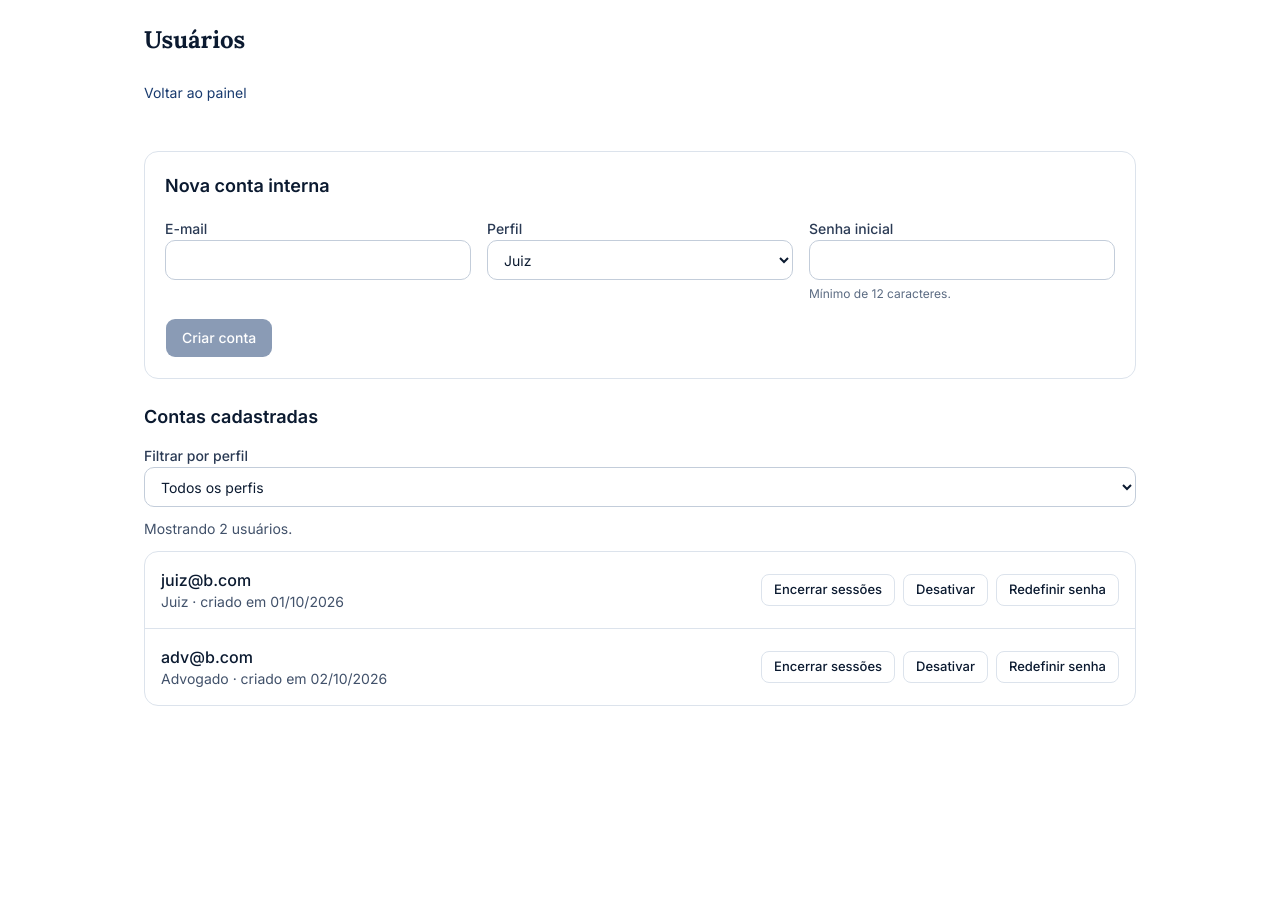
Test: UsersAdmin › creates an account, clears the password, announces and refetches
Expected: the text "juiz@b.com" is shown, [161,570,251,590]
Type "novo@b.com" into the field labelled "E-mail". click: (318, 260)
box: [165,240,471,280]
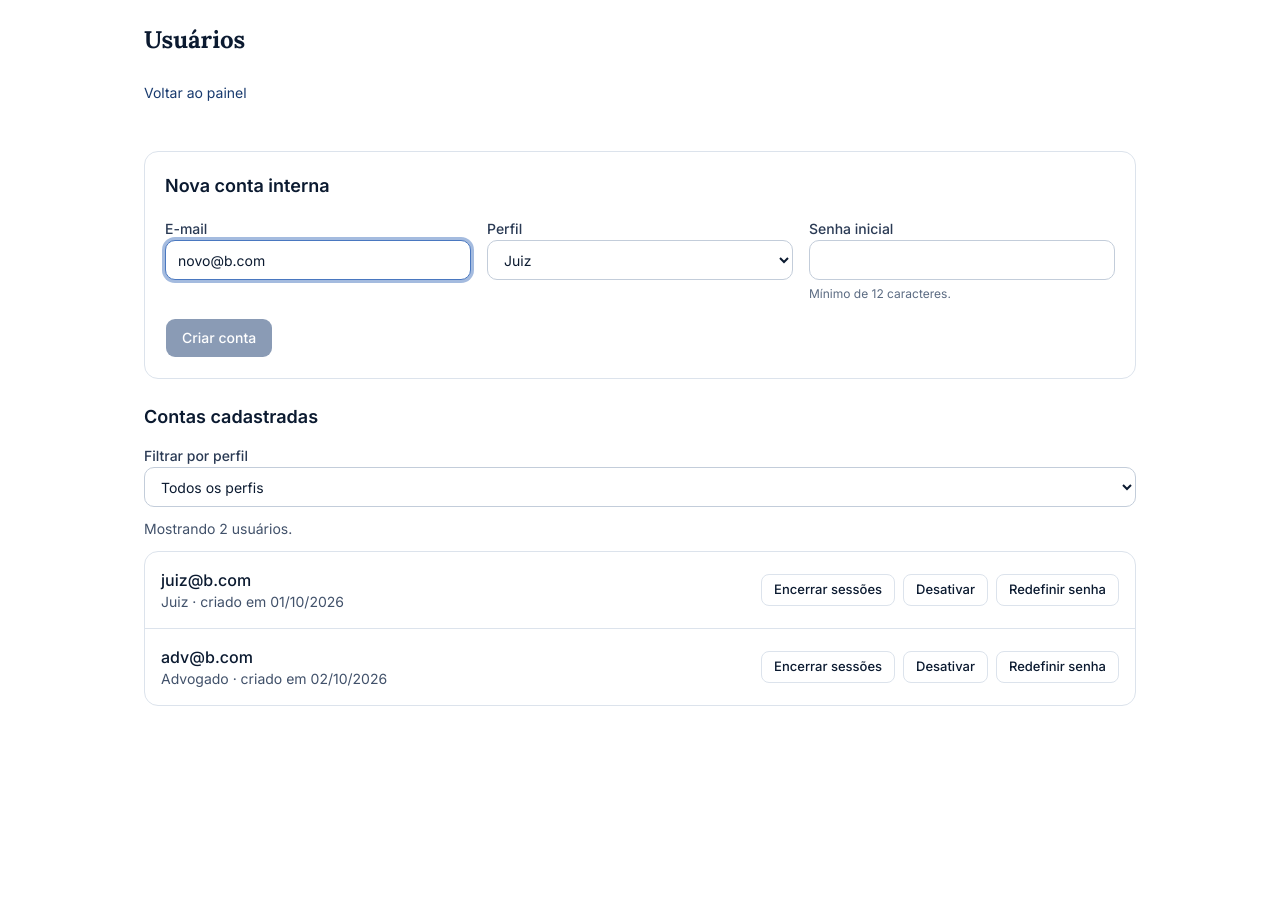
Select "Administrador" in the dropdown labelled "Perfil". click: (640, 260)
box: [487,240,793,280]
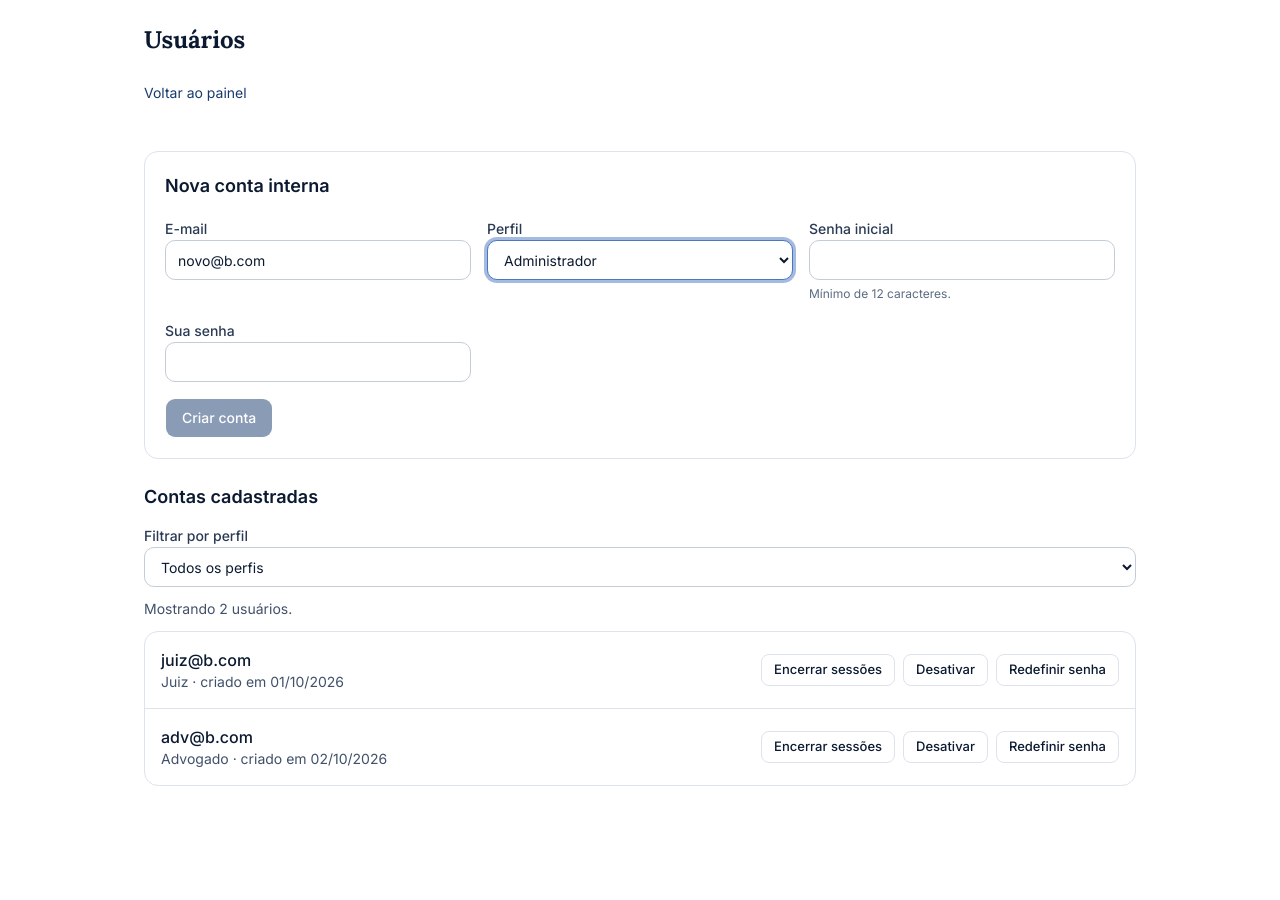
Type "senha-forte-123" into the password field labelled "Senha inicial". click: (962, 260)
box: [809,240,1115,280]
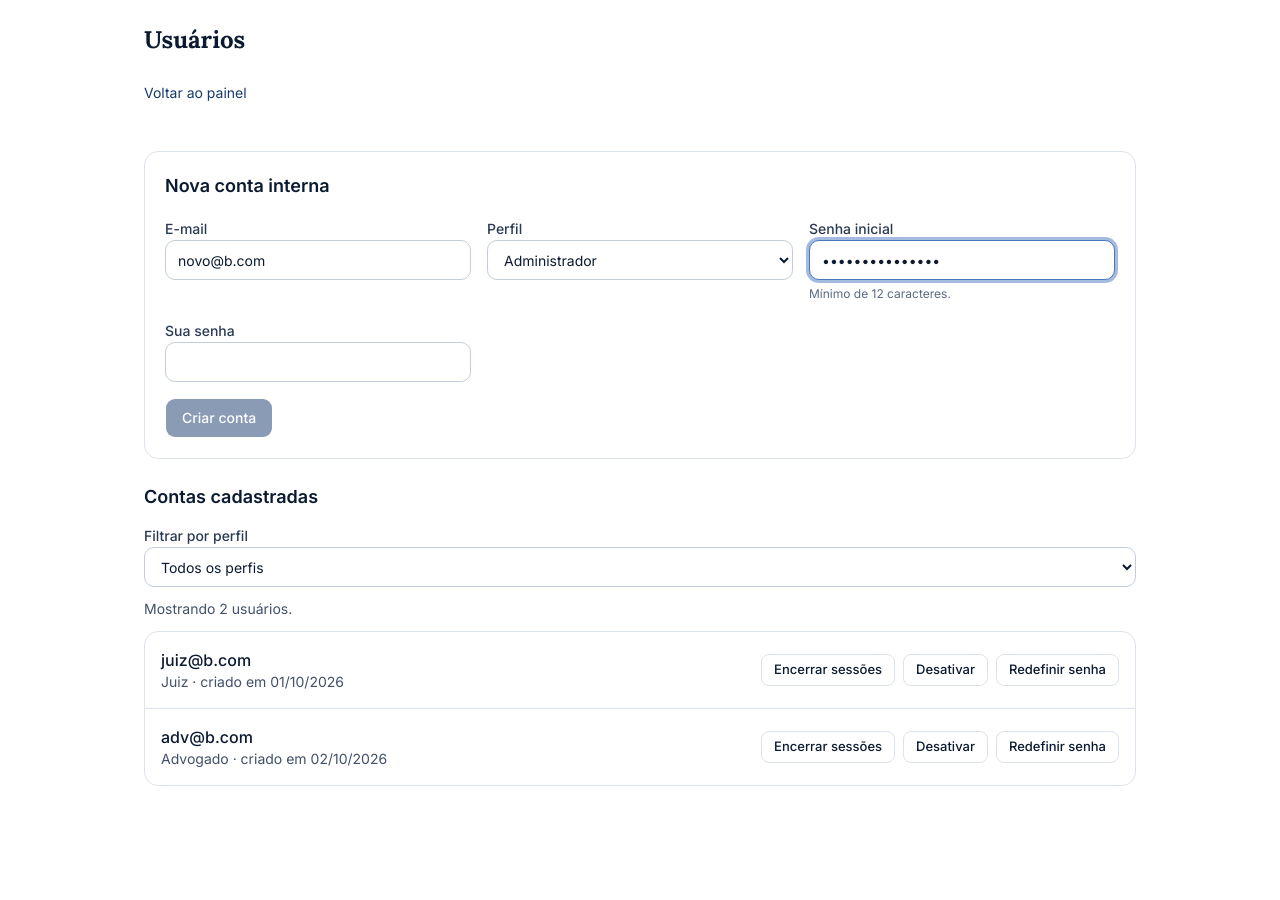
Type "minha-senha" into the password field labelled "Sua senha". click: (318, 362)
box: [165,342,471,382]
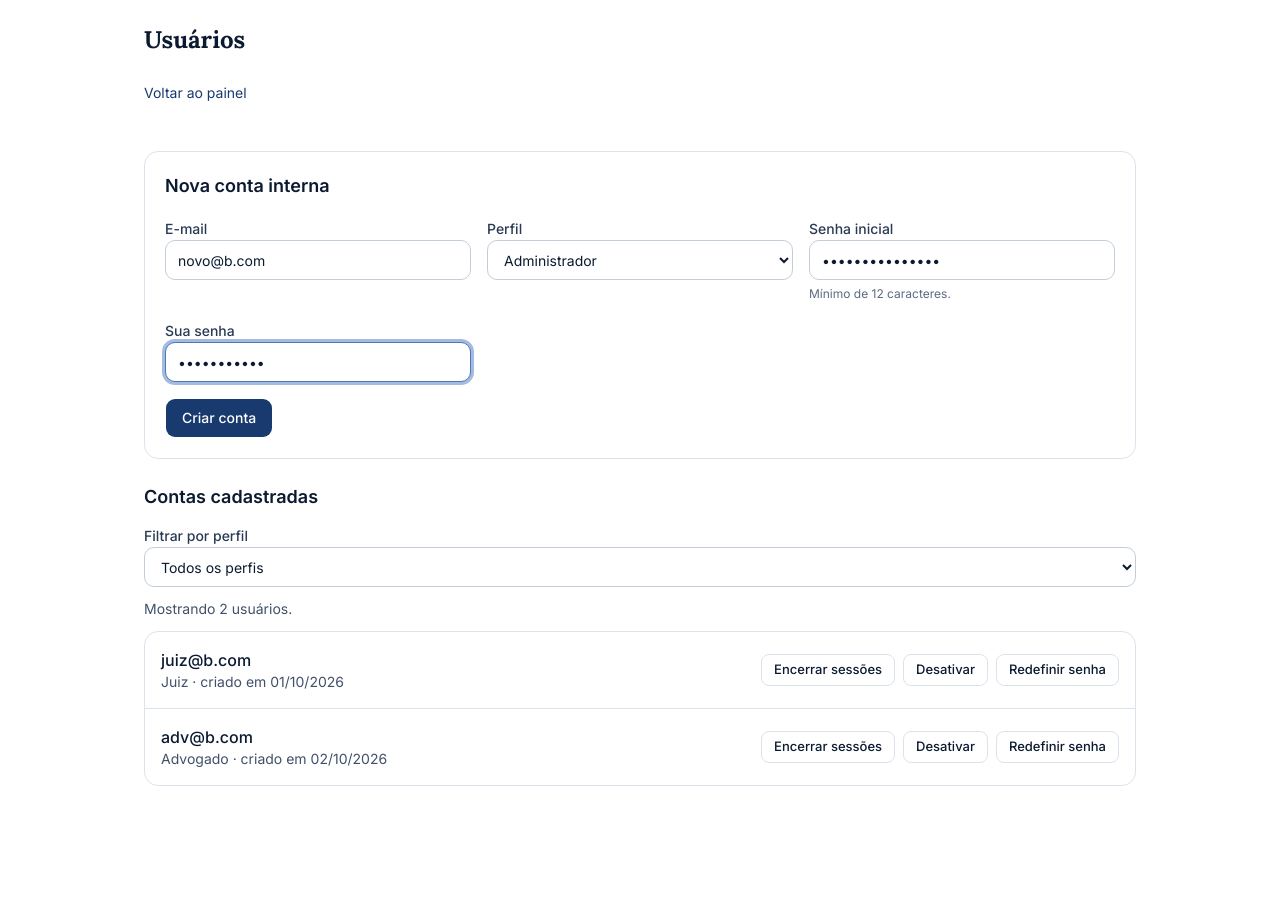
Click the button "Criar conta". click: (219, 418)
box: [165,398,273,438]
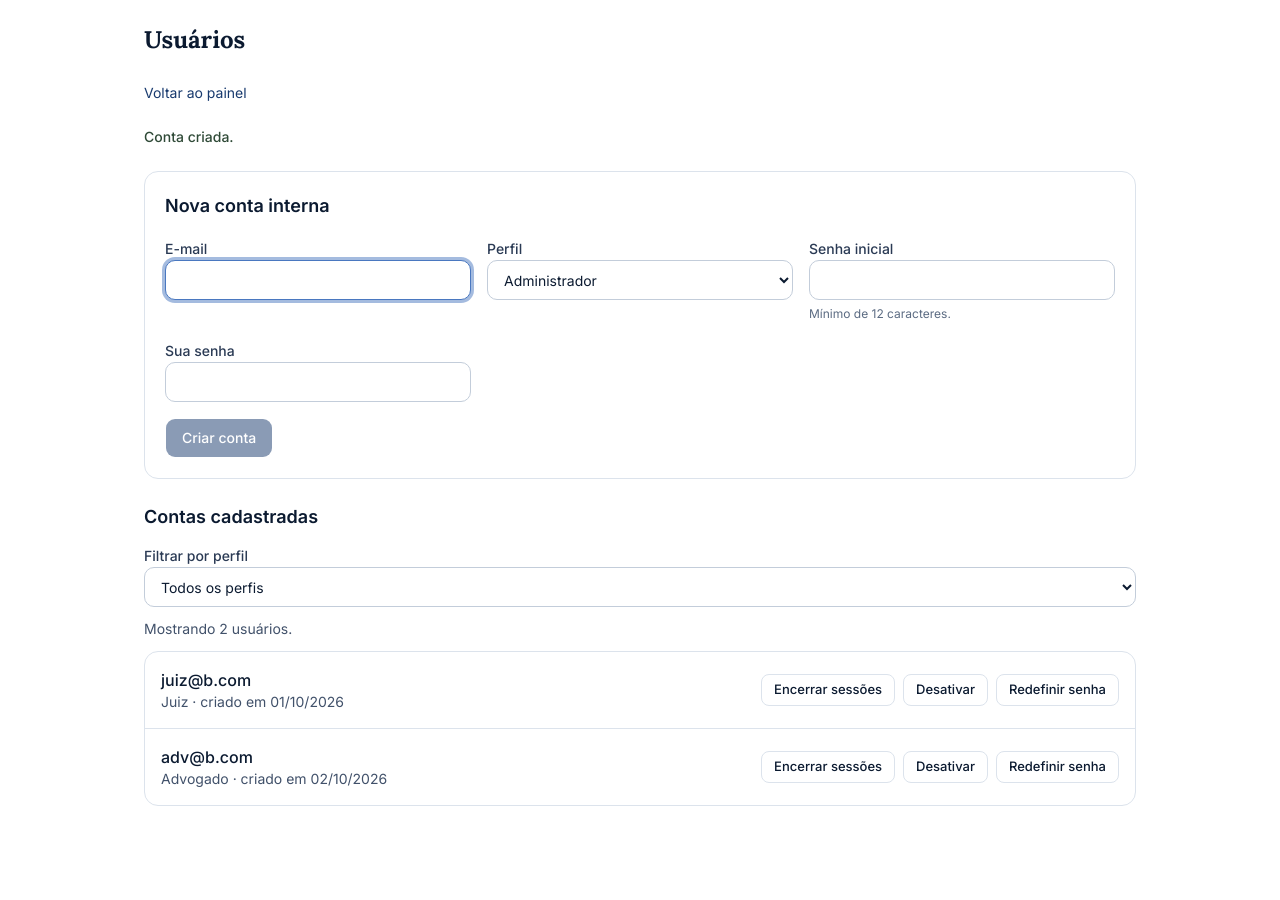
Expected: the text "Conta criada." is shown, [144,128,234,145]
Expected: the password field labelled "Senha inicial" is empty, [809,260,1115,300]
Expected: the field labelled "E-mail" is empty, [165,260,471,300]
